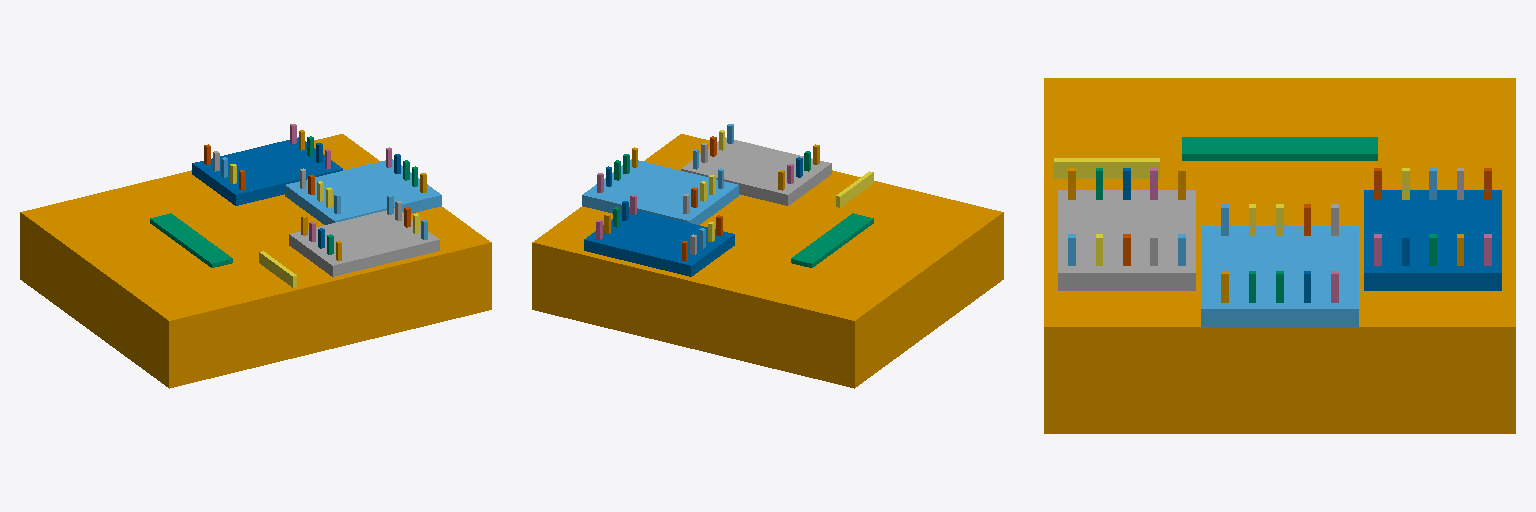
The robot description file, URDF, robot "carritov2":
<?xml version="1.0"?>
<robot name="carritov2">

  <link name="chasis1">
    <inertial>
      <origin xyz="0 0 0" rpy="0 0 0"/>
      <mass value="1.0" />
      <inertia ixx="0.0741666666667" ixy="0.0" ixz="0.0" iyy="0.0585416666667" iyz="0.0" izz="0.0260416666667"/>
    </inertial>
    <visual>
      <geometry>
        <box size="1.5 1.2 0.3"/>
      </geometry>
      <origin rpy="0 0 0" xyz="0.25 0 0.1"/>
    </visual>
  </link>

  <link name="chasis2">
    <inertial>
      <origin xyz="0 0 0" rpy="0 0 0"/>
      <mass value="1.0" />
      <inertia ixx="0.0741666666667" ixy="0.0" ixz="0.0" iyy="0.0585416666667" iyz="0.0" izz="0.0260416666667"/>
    </inertial>
    <visual>
      <geometry>
        <box size="0.5 0.4 0.05"/>
      </geometry>
      <material name="aluminium"/>
      <origin rpy="0 0 0" xyz="0.75 0 0.275"/>
    </visual>
  </link>

  <joint name="chasis1_to_chasis2" type="fixed">
    <parent link="chasis1"/>
    <child link="chasis2"/>
  </joint>

  <link name="soporte1_base1">
    <inertial>
      <origin xyz="0 0 0" rpy="0 0 0"/>
      <mass value="1.0" />
      <inertia ixx="0.0741666666667" ixy="0.0" ixz="0.0" iyy="0.0585416666667" iyz="0.0" izz="0.0260416666667"/>
    </inertial>
    <visual>
      <geometry>
        <box size="0.02 0.02 0.08"/>
      </geometry>
      <origin rpy="0 0 0" xyz="0.95 0 0.34"/>
    </visual>
  </link>

  <joint name="soporte1_base1_to_chasis2" type="fixed">
    <parent link="chasis2"/>
    <child link="soporte1_base1"/>
  </joint>

  <link name="soporte1_base2">
    <inertial>
      <origin xyz="0 0 0" rpy="0 0 0"/>
      <mass value="1.0" />
      <inertia ixx="0.0741666666667" ixy="0.0" ixz="0.0" iyy="0.0585416666667" iyz="0.0" izz="0.0260416666667"/>
    </inertial>
    <visual>
      <geometry>
        <box size="0.02 0.02 0.08"/>
      </geometry>
      <origin rpy="0 0 0" xyz="0.55 0 0.34"/>
    </visual>
  </link>

  <joint name="soporte1_base2_to_chasis2" type="fixed">
    <parent link="chasis2"/>
    <child link="soporte1_base2"/>
  </joint>

  <link name="soporte2_base1">
    <inertial>
      <origin xyz="0 0 0" rpy="0 0 0"/>
      <mass value="1.0" />
      <inertia ixx="0.0741666666667" ixy="0.0" ixz="0.0" iyy="0.0585416666667" iyz="0.0" izz="0.0260416666667"/>
    </inertial>
    <visual>
      <geometry>
        <box size="0.02 0.02 0.08"/>
      </geometry>
      <origin rpy="0 0 0" xyz="0.95 0.07 0.34"/>
    </visual>
  </link>

  <joint name="soporte2_base1_to_chasis2" type="fixed">
    <parent link="chasis2"/>
    <child link="soporte2_base1"/>
  </joint>

  <link name="soporte2_base2">
    <inertial>
      <origin xyz="0 0 0" rpy="0 0 0"/>
      <mass value="1.0" />
      <inertia ixx="0.0741666666667" ixy="0.0" ixz="0.0" iyy="0.0585416666667" iyz="0.0" izz="0.0260416666667"/>
    </inertial>
    <visual>
      <geometry>
        <box size="0.02 0.02 0.08"/>
      </geometry>
      <origin rpy="0 0 0" xyz="0.55 0.07 0.34"/>
    </visual>
  </link>

  <joint name="soporte2_base2_to_chasis2" type="fixed">
    <parent link="chasis2"/>
    <child link="soporte2_base2"/>
  </joint>

  <link name="soporte3_base1">
    <inertial>
      <origin xyz="0 0 0" rpy="0 0 0"/>
      <mass value="1.0" />
      <inertia ixx="0.0741666666667" ixy="0.0" ixz="0.0" iyy="0.0585416666667" iyz="0.0" izz="0.0260416666667"/>
    </inertial>
    <visual>
      <geometry>
        <box size="0.02 0.02 0.08"/>
      </geometry>
      <origin rpy="0 0 0" xyz="0.95 0.14 0.34"/>
    </visual>
  </link>

  <joint name="soporte3_base1_to_chasis2" type="fixed">
    <parent link="chasis2"/>
    <child link="soporte3_base1"/>
  </joint>

  <link name="soporte3_base2">
    <inertial>
      <origin xyz="0 0 0" rpy="0 0 0"/>
      <mass value="1.0" />
      <inertia ixx="0.0741666666667" ixy="0.0" ixz="0.0" iyy="0.0585416666667" iyz="0.0" izz="0.0260416666667"/>
    </inertial>
    <visual>
      <geometry>
        <box size="0.02 0.02 0.08"/>
      </geometry>
      <origin rpy="0 0 0" xyz="0.55 0.14 0.34"/>
    </visual>
  </link>

  <joint name="soporte3_base2_to_chasis2" type="fixed">
    <parent link="chasis2"/>
    <child link="soporte3_base2"/>
  </joint>

  <link name="soporte4_base1">
    <inertial>
      <origin xyz="0 0 0" rpy="0 0 0"/>
      <mass value="1.0" />
      <inertia ixx="0.0741666666667" ixy="0.0" ixz="0.0" iyy="0.0585416666667" iyz="0.0" izz="0.0260416666667"/>
    </inertial>
    <visual>
      <geometry>
        <box size="0.02 0.02 0.08"/>
      </geometry>
      <origin rpy="0 0 0" xyz="0.95 -0.14 0.34"/>
    </visual>
  </link>

  <joint name="soporte4_base1_to_chasis2" type="fixed">
    <parent link="chasis2"/>
    <child link="soporte4_base1"/>
  </joint>

  <link name="soporte4_base2">
    <inertial>
      <origin xyz="0 0 0" rpy="0 0 0"/>
      <mass value="1.0" />
      <inertia ixx="0.0741666666667" ixy="0.0" ixz="0.0" iyy="0.0585416666667" iyz="0.0" izz="0.0260416666667"/>
    </inertial>
    <visual>
      <geometry>
        <box size="0.02 0.02 0.08"/>
      </geometry>
      <origin rpy="0 0 0" xyz="0.55 -0.14 0.34"/>
    </visual>
  </link>

  <joint name="soporte4_base2_to_chasis2" type="fixed">
    <parent link="chasis2"/>
    <child link="soporte4_base2"/>
  </joint>

  <link name="soporte5_base1">
    <inertial>
      <origin xyz="0 0 0" rpy="0 0 0"/>
      <mass value="1.0" />
      <inertia ixx="0.0741666666667" ixy="0.0" ixz="0.0" iyy="0.0585416666667" iyz="0.0" izz="0.0260416666667"/>
    </inertial>
    <visual>
      <geometry>
        <box size="0.02 0.02 0.08"/>
      </geometry>
      <origin rpy="0 0 0" xyz="0.95 -0.07 0.34"/>
    </visual>
  </link>

  <joint name="soporte5_base1_to_chasis2" type="fixed">
    <parent link="chasis2"/>
    <child link="soporte5_base1"/>
  </joint>

  <link name="soporte5_base2">
    <inertial>
      <origin xyz="0 0 0" rpy="0 0 0"/>
      <mass value="1.0" />
      <inertia ixx="0.0741666666667" ixy="0.0" ixz="0.0" iyy="0.0585416666667" iyz="0.0" izz="0.0260416666667"/>
    </inertial>
    <visual>
      <geometry>
        <box size="0.02 0.02 0.08"/>
      </geometry>
      <origin rpy="0 0 0" xyz="0.55 -0.07 0.34"/>
    </visual>
  </link>

  <joint name="soporte5_base2_to_chasis2" type="fixed">
    <parent link="chasis2"/>
    <child link="soporte5_base2"/>
  </joint>

  <link name="chasis3">
    <inertial>
      <origin xyz="0 0 0" rpy="0 0 0"/>
      <mass value="1.0" />
      <inertia ixx="0.0741666666667" ixy="0.0" ixz="0.0" iyy="0.0585416666667" iyz="0.0" izz="0.0260416666667"/>
    </inertial>
    <visual>
      <geometry>
        <box size="0.5 0.35 0.05"/>
      </geometry>
      <material name="aluminium"/>
      <origin rpy="0 0 0" xyz="0.53 0.39 0.275"/>
    </visual>
  </link>

  <joint name="chasis1_to_chasis3" type="fixed">
    <parent link="chasis1"/>
    <child link="chasis3"/>
  </joint>

  <link name="soporte1_base3">
    <inertial>
      <origin xyz="0 0 0" rpy="0 0 0"/>
      <mass value="1.0" />
      <inertia ixx="0.0741666666667" ixy="0.0" ixz="0.0" iyy="0.0585416666667" iyz="0.0" izz="0.0260416666667"/>
    </inertial>
    <visual>
      <geometry>
        <box size="0.02 0.02 0.08"/>
      </geometry>
      <origin rpy="0 0 0" xyz="0.33 0.53 0.34"/>
    </visual>
  </link>

  <joint name="soporte1_base3_to_chasis3" type="fixed">
    <parent link="chasis3"/>
    <child link="soporte1_base3"/>
  </joint>

  <link name="soporte1_base4">
    <inertial>
      <origin xyz="0 0 0" rpy="0 0 0"/>
      <mass value="1.0" />
      <inertia ixx="0.0741666666667" ixy="0.0" ixz="0.0" iyy="0.0585416666667" iyz="0.0" izz="0.0260416666667"/>
    </inertial>
    <visual>
      <geometry>
        <box size="0.02 0.02 0.08"/>
      </geometry>
      <origin rpy="0 0 0" xyz="0.73 0.53 0.34"/>
    </visual>
  </link>

  <joint name="soporte1_base4_to_chasis3" type="fixed">
    <parent link="chasis3"/>
    <child link="soporte1_base4"/>
  </joint>

  <link name="soporte2_base3">
    <inertial>
      <origin xyz="0 0 0" rpy="0 0 0"/>
      <mass value="1.0" />
      <inertia ixx="0.0741666666667" ixy="0.0" ixz="0.0" iyy="0.0585416666667" iyz="0.0" izz="0.0260416666667"/>
    </inertial>
    <visual>
      <geometry>
        <box size="0.02 0.02 0.08"/>
      </geometry>
      <origin rpy="0 0 0" xyz="0.33 0.46 0.34"/>
    </visual>
  </link>

  <joint name="soporte2_base3_to_chasis3" type="fixed">
    <parent link="chasis3"/>
    <child link="soporte2_base3"/>
  </joint>

  <link name="soporte2_base4">
    <inertial>
      <origin xyz="0 0 0" rpy="0 0 0"/>
      <mass value="1.0" />
      <inertia ixx="0.0741666666667" ixy="0.0" ixz="0.0" iyy="0.0585416666667" iyz="0.0" izz="0.0260416666667"/>
    </inertial>
    <visual>
      <geometry>
        <box size="0.02 0.02 0.08"/>
      </geometry>
      <origin rpy="0 0 0" xyz="0.73 0.46 0.34"/>
    </visual>
  </link>

  <joint name="soporte2_base4_to_chasis3" type="fixed">
    <parent link="chasis3"/>
    <child link="soporte2_base4"/>
  </joint>

  <link name="soporte3_base3">
    <inertial>
      <origin xyz="0 0 0" rpy="0 0 0"/>
      <mass value="1.0" />
      <inertia ixx="0.0741666666667" ixy="0.0" ixz="0.0" iyy="0.0585416666667" iyz="0.0" izz="0.0260416666667"/>
    </inertial>
    <visual>
      <geometry>
        <box size="0.02 0.02 0.08"/>
      </geometry>
      <origin rpy="0 0 0" xyz="0.33 0.39 0.34"/>
    </visual>
  </link>

  <joint name="soporte3_base3_to_chasis3" type="fixed">
    <parent link="chasis3"/>
    <child link="soporte3_base3"/>
  </joint>

  <link name="soporte3_base4">
    <inertial>
      <origin xyz="0 0 0" rpy="0 0 0"/>
      <mass value="1.0" />
      <inertia ixx="0.0741666666667" ixy="0.0" ixz="0.0" iyy="0.0585416666667" iyz="0.0" izz="0.0260416666667"/>
    </inertial>
    <visual>
      <geometry>
        <box size="0.02 0.02 0.08"/>
      </geometry>
      <origin rpy="0 0 0" xyz="0.73 0.39 0.34"/>
    </visual>
  </link>

  <joint name="soporte3_base4_to_chasis3" type="fixed">
    <parent link="chasis3"/>
    <child link="soporte3_base4"/>
  </joint>

  <link name="soporte4_base3">
    <inertial>
      <origin xyz="0 0 0" rpy="0 0 0"/>
      <mass value="1.0" />
      <inertia ixx="0.0741666666667" ixy="0.0" ixz="0.0" iyy="0.0585416666667" iyz="0.0" izz="0.0260416666667"/>
    </inertial>
    <visual>
      <geometry>
        <box size="0.02 0.02 0.08"/>
      </geometry>
      <origin rpy="0 0 0" xyz="0.33 0.32 0.34"/>
    </visual>
  </link>

  <joint name="soporte4_base3_to_chasis3" type="fixed">
    <parent link="chasis3"/>
    <child link="soporte4_base3"/>
  </joint>

  <link name="soporte4_base4">
    <inertial>
      <origin xyz="0 0 0" rpy="0 0 0"/>
      <mass value="1.0" />
      <inertia ixx="0.0741666666667" ixy="0.0" ixz="0.0" iyy="0.0585416666667" iyz="0.0" izz="0.0260416666667"/>
    </inertial>
    <visual>
      <geometry>
        <box size="0.02 0.02 0.08"/>
      </geometry>
      <origin rpy="0 0 0" xyz="0.73 0.32 0.34"/>
    </visual>
  </link>

  <joint name="soporte4_base4_to_chasis3" type="fixed">
    <parent link="chasis3"/>
    <child link="soporte4_base4"/>
  </joint>

  <link name="soporte5_base3">
    <inertial>
      <origin xyz="0 0 0" rpy="0 0 0"/>
      <mass value="1.0" />
      <inertia ixx="0.0741666666667" ixy="0.0" ixz="0.0" iyy="0.0585416666667" iyz="0.0" izz="0.0260416666667"/>
    </inertial>
    <visual>
      <geometry>
        <box size="0.02 0.02 0.08"/>
      </geometry>
      <origin rpy="0 0 0" xyz="0.33 0.25 0.34"/>
    </visual>
  </link>

  <joint name="soporte5_base3_to_chasis3" type="fixed">
    <parent link="chasis3"/>
    <child link="soporte5_base3"/>
  </joint>

  <link name="soporte5_base4">
    <inertial>
      <origin xyz="0 0 0" rpy="0 0 0"/>
      <mass value="1.0" />
      <inertia ixx="0.0741666666667" ixy="0.0" ixz="0.0" iyy="0.0585416666667" iyz="0.0" izz="0.0260416666667"/>
    </inertial>
    <visual>
      <geometry>
        <box size="0.02 0.02 0.08"/>
      </geometry>
      <origin rpy="0 0 0" xyz="0.73 0.25 0.34"/>
    </visual>
  </link>

  <joint name="soporte5_base4_to_chasis3" type="fixed">
    <parent link="chasis3"/>
    <child link="soporte5_base4"/>
  </joint>

  <link name="chasis4">
    <inertial>
      <origin xyz="0 0 0" rpy="0 0 0"/>
      <mass value="1.0" />
      <inertia ixx="0.0741666666667" ixy="0.0" ixz="0.0" iyy="0.0585416666667" iyz="0.0" izz="0.0260416666667"/>
    </inertial>
    <visual>
      <geometry>
        <box size="0.5 0.35 0.05"/>
      </geometry>
      <material name="aluminium"/>
      <origin rpy="0 0 0" xyz="0.53 -0.39 0.275"/>
    </visual>
  </link>

  <joint name="chasis1_to_chasis4" type="fixed">
    <parent link="chasis1"/>
    <child link="chasis4"/>
  </joint>

  <link name="soporte1_base5">
    <inertial>
      <origin xyz="0 0 0" rpy="0 0 0"/>
      <mass value="1.0" />
      <inertia ixx="0.0741666666667" ixy="0.0" ixz="0.0" iyy="0.0585416666667" iyz="0.0" izz="0.0260416666667"/>
    </inertial>
    <visual>
      <geometry>
        <box size="0.02 0.02 0.08"/>
      </geometry>
      <origin rpy="0 0 0" xyz="0.33 -0.53 0.34"/>
    </visual>
  </link>

  <joint name="soporte1_base5_to_chasis4" type="fixed">
    <parent link="chasis4"/>
    <child link="soporte1_base5"/>
  </joint>

  <link name="soporte1_base6">
    <inertial>
      <origin xyz="0 0 0" rpy="0 0 0"/>
      <mass value="1.0" />
      <inertia ixx="0.0741666666667" ixy="0.0" ixz="0.0" iyy="0.0585416666667" iyz="0.0" izz="0.0260416666667"/>
    </inertial>
    <visual>
      <geometry>
        <box size="0.02 0.02 0.08"/>
      </geometry>
      <origin rpy="0 0 0" xyz="0.73 -0.53 0.34"/>
    </visual>
  </link>

  <joint name="soporte1_base6_to_chasis4" type="fixed">
    <parent link="chasis4"/>
    <child link="soporte1_base6"/>
  </joint>

  <link name="soporte2_base5">
    <inertial>
      <origin xyz="0 0 0" rpy="0 0 0"/>
      <mass value="1.0" />
      <inertia ixx="0.0741666666667" ixy="0.0" ixz="0.0" iyy="0.0585416666667" iyz="0.0" izz="0.0260416666667"/>
    </inertial>
    <visual>
      <geometry>
        <box size="0.02 0.02 0.08"/>
      </geometry>
      <origin rpy="0 0 0" xyz="0.33 -0.46 0.34"/>
    </visual>
  </link>

  <joint name="soporte2_base5_to_chasis4" type="fixed">
    <parent link="chasis4"/>
    <child link="soporte2_base5"/>
  </joint>

  <link name="soporte2_base6">
    <inertial>
      <origin xyz="0 0 0" rpy="0 0 0"/>
      <mass value="1.0" />
      <inertia ixx="0.0741666666667" ixy="0.0" ixz="0.0" iyy="0.0585416666667" iyz="0.0" izz="0.0260416666667"/>
    </inertial>
    <visual>
      <geometry>
        <box size="0.02 0.02 0.08"/>
      </geometry>
      <origin rpy="0 0 0" xyz="0.73 -0.46 0.34"/>
    </visual>
  </link>

  <joint name="soporte2_base6_to_chasis4" type="fixed">
    <parent link="chasis4"/>
    <child link="soporte2_base6"/>
  </joint>

  <link name="soporte3_base5">
    <inertial>
      <origin xyz="0 0 0" rpy="0 0 0"/>
      <mass value="1.0" />
      <inertia ixx="0.0741666666667" ixy="0.0" ixz="0.0" iyy="0.0585416666667" iyz="0.0" izz="0.0260416666667"/>
    </inertial>
    <visual>
      <geometry>
        <box size="0.02 0.02 0.08"/>
      </geometry>
      <origin rpy="0 0 0" xyz="0.33 -0.39 0.34"/>
    </visual>
  </link>

  <joint name="soporte3_base5_to_chasis4" type="fixed">
    <parent link="chasis4"/>
    <child link="soporte3_base5"/>
  </joint>

  <link name="soporte3_base6">
    <inertial>
      <origin xyz="0 0 0" rpy="0 0 0"/>
      <mass value="1.0" />
      <inertia ixx="0.0741666666667" ixy="0.0" ixz="0.0" iyy="0.0585416666667" iyz="0.0" izz="0.0260416666667"/>
    </inertial>
    <visual>
      <geometry>
        <box size="0.02 0.02 0.08"/>
      </geometry>
      <origin rpy="0 0 0" xyz="0.73 -0.39 0.34"/>
    </visual>
  </link>

  <joint name="soporte3_base6_to_chasis4" type="fixed">
    <parent link="chasis4"/>
    <child link="soporte3_base6"/>
  </joint>

  <link name="soporte4_base5">
    <inertial>
      <origin xyz="0 0 0" rpy="0 0 0"/>
      <mass value="1.0" />
      <inertia ixx="0.0741666666667" ixy="0.0" ixz="0.0" iyy="0.0585416666667" iyz="0.0" izz="0.0260416666667"/>
    </inertial>
    <visual>
      <geometry>
        <box size="0.02 0.02 0.08"/>
      </geometry>
      <origin rpy="0 0 0" xyz="0.33 -0.32 0.34"/>
    </visual>
  </link>

  <joint name="soporte4_base5_to_chasis4" type="fixed">
    <parent link="chasis4"/>
    <child link="soporte4_base5"/>
  </joint>

  <link name="soporte4_base6">
    <inertial>
      <origin xyz="0 0 0" rpy="0 0 0"/>
      <mass value="1.0" />
      <inertia ixx="0.0741666666667" ixy="0.0" ixz="0.0" iyy="0.0585416666667" iyz="0.0" izz="0.0260416666667"/>
    </inertial>
    <visual>
      <geometry>
        <box size="0.02 0.02 0.08"/>
      </geometry>
      <origin rpy="0 0 0" xyz="0.73 -0.32 0.34"/>
    </visual>
  </link>

  <joint name="soporte4_base6_to_chasis4" type="fixed">
    <parent link="chasis4"/>
    <child link="soporte4_base6"/>
  </joint>

  <link name="soporte5_base5">
    <inertial>
      <origin xyz="0 0 0" rpy="0 0 0"/>
      <mass value="1.0" />
      <inertia ixx="0.0741666666667" ixy="0.0" ixz="0.0" iyy="0.0585416666667" iyz="0.0" izz="0.0260416666667"/>
    </inertial>
    <visual>
      <geometry>
        <box size="0.02 0.02 0.08"/>
      </geometry>
      <origin rpy="0 0 0" xyz="0.33 -0.25 0.34"/>
    </visual>
  </link>

  <joint name="soporte5_base5_to_chasis4" type="fixed">
    <parent link="chasis4"/>
    <child link="soporte5_base5"/>
  </joint>

  <link name="soporte5_base6">
    <inertial>
      <origin xyz="0 0 0" rpy="0 0 0"/>
      <mass value="1.0" />
      <inertia ixx="0.0741666666667" ixy="0.0" ixz="0.0" iyy="0.0585416666667" iyz="0.0" izz="0.0260416666667"/>
    </inertial>
    <visual>
      <geometry>
        <box size="0.02 0.02 0.08"/>
      </geometry>
      <origin rpy="0 0 0" xyz="0.73 -0.25 0.34"/>
    </visual>
  </link>

  <joint name="soporte5_base6_to_chasis4" type="fixed">
    <parent link="chasis4"/>
    <child link="soporte5_base6"/>
  </joint>

  <link name="zona_union">
    <inertial>
      <origin xyz="0 0 0" rpy="0 0 0"/>
      <mass value="1.0" />
      <inertia ixx="0.0741666666667" ixy="0.0" ixz="0.0" iyy="0.0585416666667" iyz="0.0" izz="0.0260416666667"/>
    </inertial>
    <visual>
      <geometry>
        <box size="0.1 0.5 0.02"/>
      </geometry>
      <material name="aluminium"/>
      <origin rpy="0 0 0" xyz="-0.05 0 0.26"/>
    </visual>
  </link>

  <joint name="chasis1_to_zona_union" type="fixed">
    <parent link="chasis1"/>
    <child link="zona_union"/>
  </joint>

  <link name="pared1_buffer">
    <inertial>
      <origin xyz="0 0 0" rpy="0 0 0"/>
      <mass value="1.0" />
      <inertia ixx="0.0741666666667" ixy="0.0" ixz="0.0" iyy="0.0585416666667" iyz="0.0" izz="0.0260416666667"/>
    </inertial>
    <visual>
      <geometry>
        <box size="0.02 0.27 0.05"/>
      </geometry>
      <material name="aluminium"/>
      <origin rpy="0 0 0" xyz="0.1 -0.44 0.275"/>
    </visual>
  </link>

  <joint name="chasis1_to_pared1_buffer" type="fixed">
    <parent link="chasis1"/>
    <child link="pared1_buffer"/>
  </joint>

  <!--<gazebo>
    <plugin name="gazebo_ros_control" filename="libgazebo_ros_control.so">
      <robotNamespace>/</robotNamespace>
    </plugin>
  </gazebo>-->

    <!--<link name="pared2_buffer">
    <inertial>
      <origin xyz="0 0 0" rpy="0 0 0"/>
      <mass value="1.0" />
      <inertia ixx="0.0741666666667" ixy="0.0" ixz="0.0" iyy="0.0585416666667" iyz="0.0" izz="0.0260416666667"/>
    </inertial>
    <visual>
      <geometry>
        <box size="0.02 0.27 0.05"/>
      </geometry>
      <material name="aluminium"/>
      <origin rpy="0 0 0" xyz="0.1 -0.44 0.275"/>
    </visual>
  </link>

  <joint name="chasis1_to_pared2_buffer" type="fixed">
    <parent link="chasis1"/>
    <child link="pared1_buffer"/>
  </joint>-->

  <!--<gazebo>
    <plugin name="gazebo_ros_control" filename="libgazebo_ros_control.so">
      <robotNamespace>/</robotNamespace>
    </plugin>
  </gazebo>-->

  <gazebo>
    <static>true</static>
  </gazebo>

</robot>

--- Facts derived from the render (not from the file) ---
The picture shows the robot from 3 angles, left to right: view 1: azimuth 30°, elevation 25°; view 2: azimuth 150°, elevation 25°; view 3: azimuth 270°, elevation 25°; orthographic projection.
Model carritov2 with 36 links and 35 joints (35 fixed), rooted at chasis1, posed all joints at 0.
Visible links, largest first — view 1: chasis1, chasis4, chasis2, chasis3, zona_union, pared1_buffer; view 2: chasis1, chasis3, chasis2, chasis4, zona_union, pared1_buffer; view 3: chasis1, chasis2, chasis3, chasis4, zona_union, pared1_buffer.
Link boxes in pixels (x1,y1,x2,y2): chasis1: (20,134,491,388); chasis4: (289,208,439,276); chasis2: (285,159,441,224); chasis3: (192,137,342,205); zona_union: (150,213,232,267); pared1_buffer: (259,251,296,287); chasis1: (532,134,1003,388); chasis3: (584,208,734,276); chasis2: (582,159,738,224); chasis4: (681,137,831,205); zona_union: (791,213,873,267); pared1_buffer: (836,171,873,207); chasis1: (1044,78,1515,433); chasis2: (1201,226,1358,326); chasis3: (1364,190,1501,290); chasis4: (1058,190,1195,290); zona_union: (1182,137,1377,160); pared1_buffer: (1054,158,1159,178).
Size in the robot's own frame: 1.5 by 1.2 by 0.43 metres.
Geometry: primitives only (box / cylinder / sphere), no mesh files.